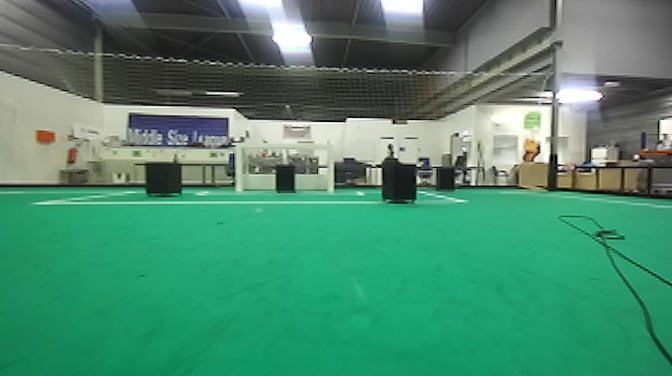goalpost: (327, 140, 339, 195), (233, 146, 244, 193)
